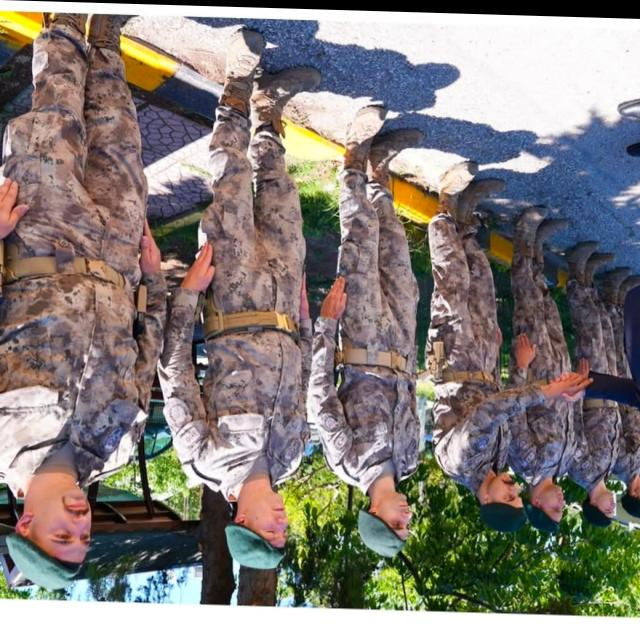poh_personel: (0, 9, 165, 593), (160, 32, 318, 569), (313, 109, 426, 555), (429, 167, 525, 529), (520, 203, 574, 527), (577, 240, 617, 528)
